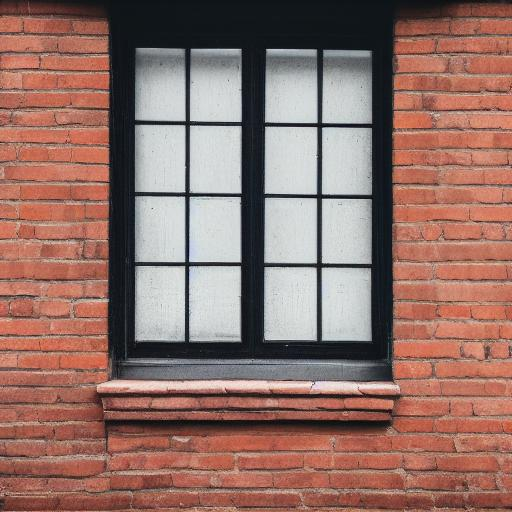Window: (95, 0, 407, 424)
